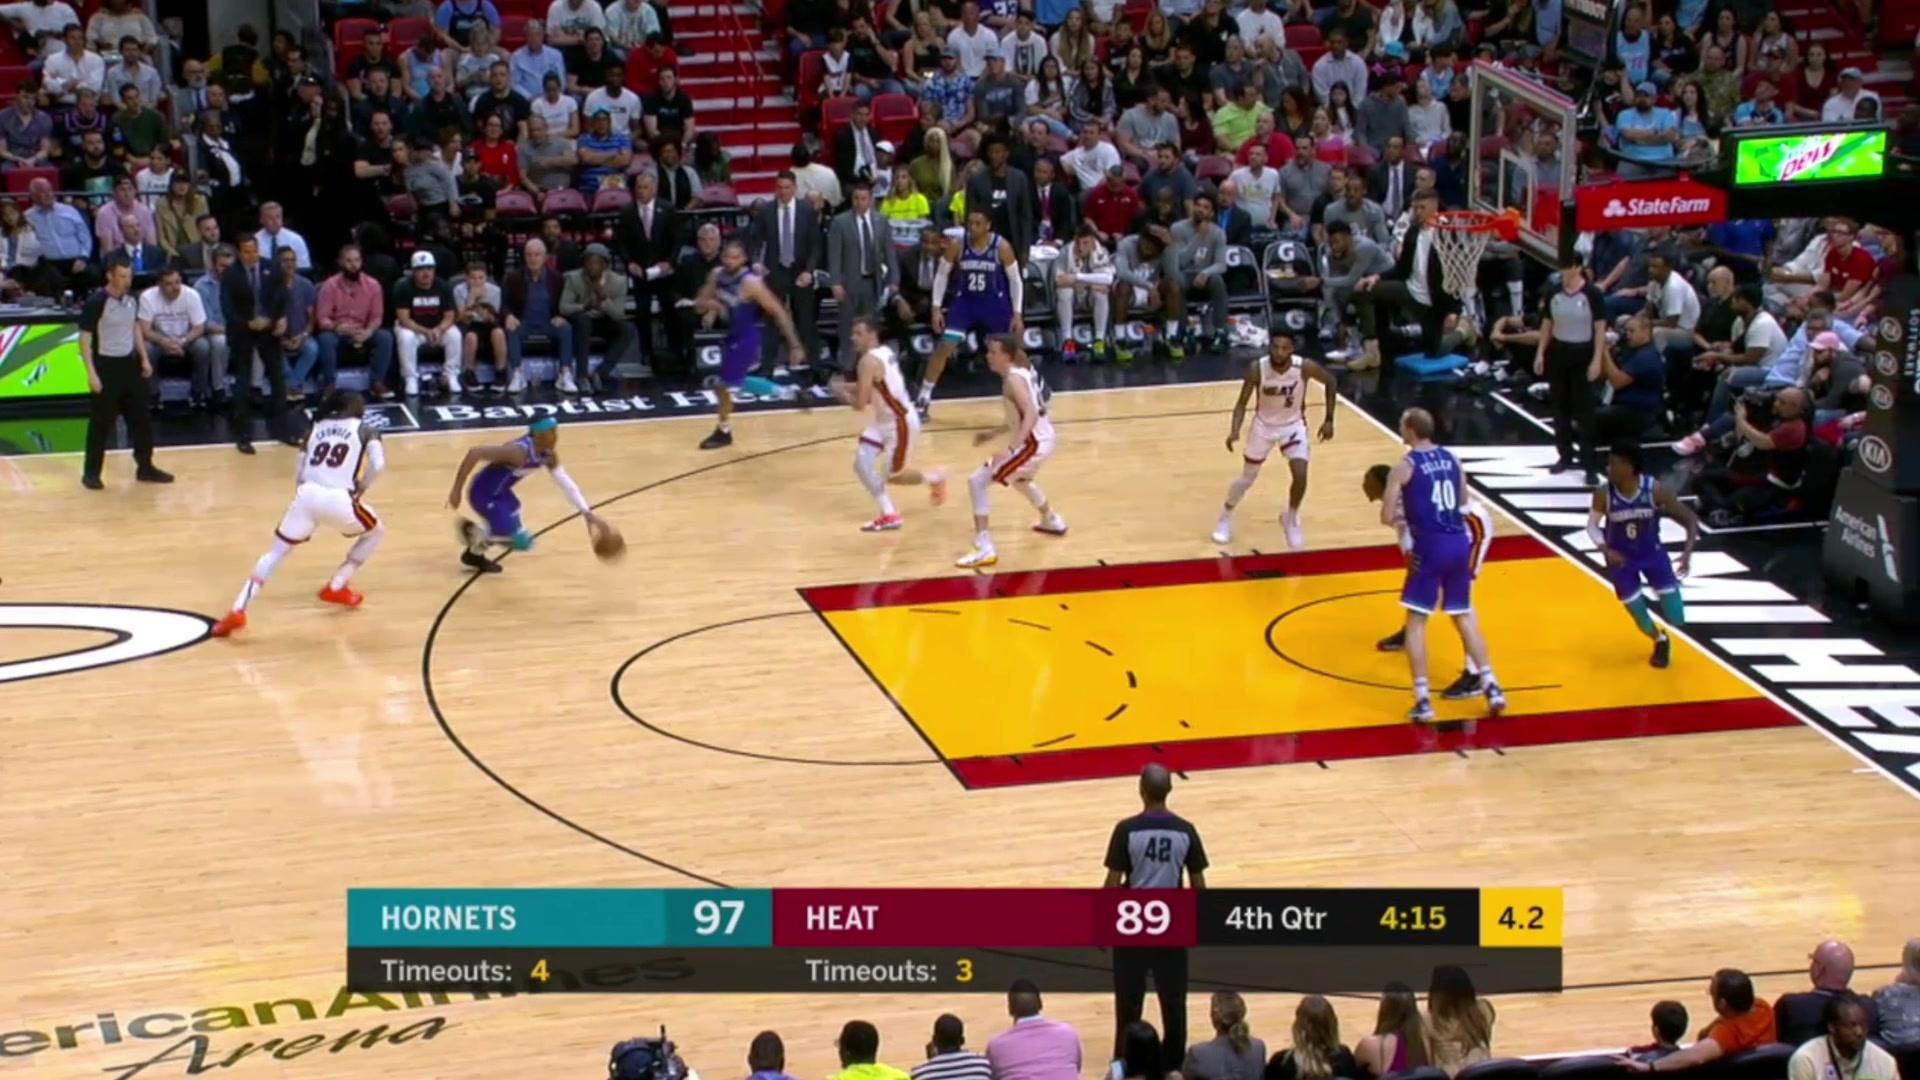no_foul: (1354, 396, 1503, 723)
